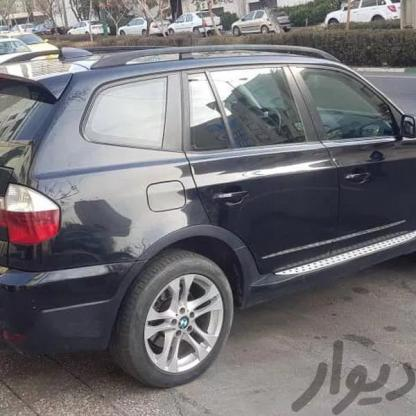Car: (0, 64, 416, 381), (323, 0, 411, 27), (228, 10, 292, 36), (168, 9, 224, 38), (0, 30, 60, 57), (112, 13, 168, 40), (0, 33, 30, 70), (64, 18, 116, 39), (36, 20, 59, 36), (10, 23, 36, 33)
